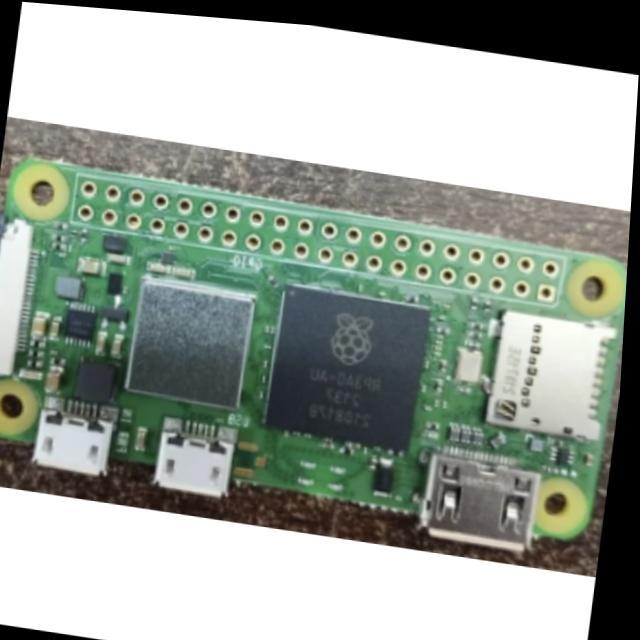Raspberry-Pi-Zero-2-W: (1, 155, 626, 554)
